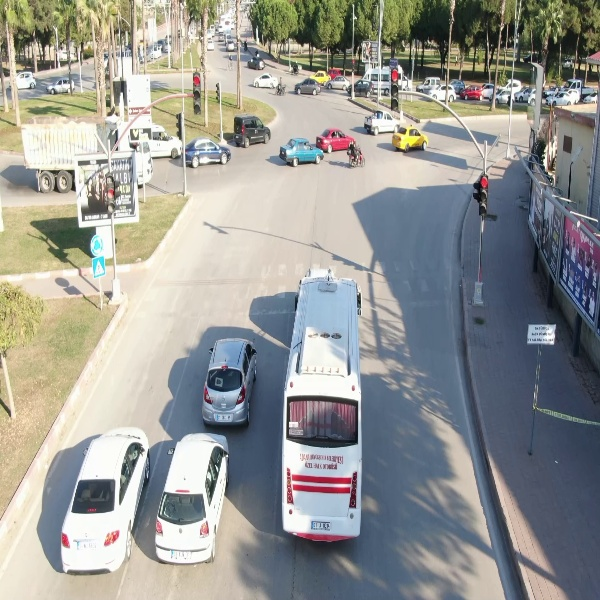car: (56, 425, 151, 578), (153, 431, 232, 569), (198, 334, 260, 430), (277, 137, 327, 168), (180, 138, 230, 168), (232, 115, 271, 149), (392, 122, 430, 153), (345, 79, 377, 99), (293, 76, 324, 95), (427, 84, 458, 103), (14, 67, 38, 91), (47, 76, 77, 95), (252, 72, 276, 91), (464, 83, 486, 103), (326, 75, 351, 90), (248, 55, 265, 70)
